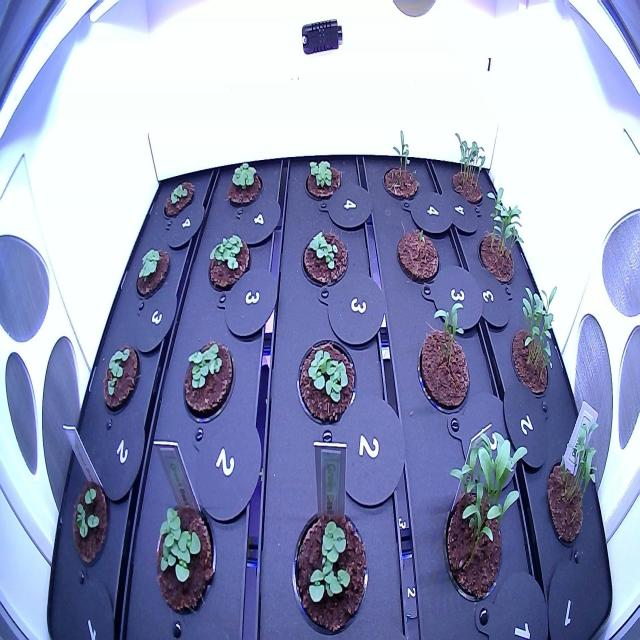germination: (285, 503, 370, 635), (414, 293, 482, 429), (150, 495, 217, 620), (293, 336, 360, 430), (178, 336, 236, 430), (67, 472, 110, 575), (379, 123, 427, 209), (203, 227, 253, 297), (99, 338, 141, 418), (298, 225, 350, 289), (393, 223, 443, 288), (301, 152, 345, 206), (224, 158, 265, 215), (132, 240, 170, 298), (161, 172, 197, 220)
